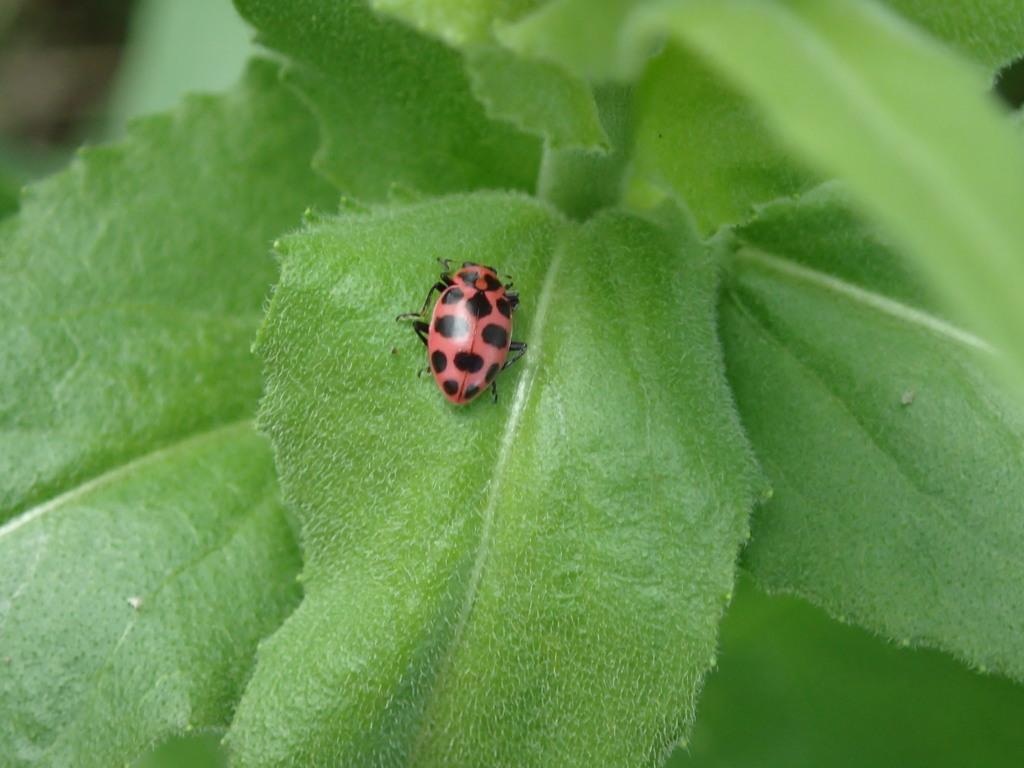ladybug: (389, 253, 535, 411)
